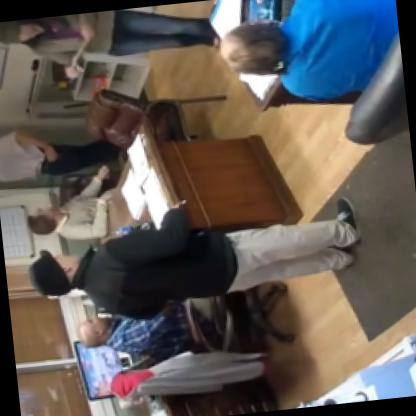Human Body: (16, 173, 374, 338), (210, 0, 404, 118), (0, 0, 222, 90), (68, 270, 232, 366), (0, 113, 134, 194), (17, 162, 129, 250)
